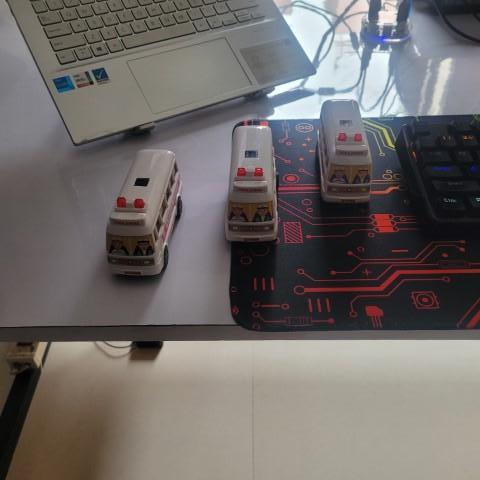ambulance: (103, 144, 195, 285), (223, 114, 285, 248), (312, 92, 376, 206)
